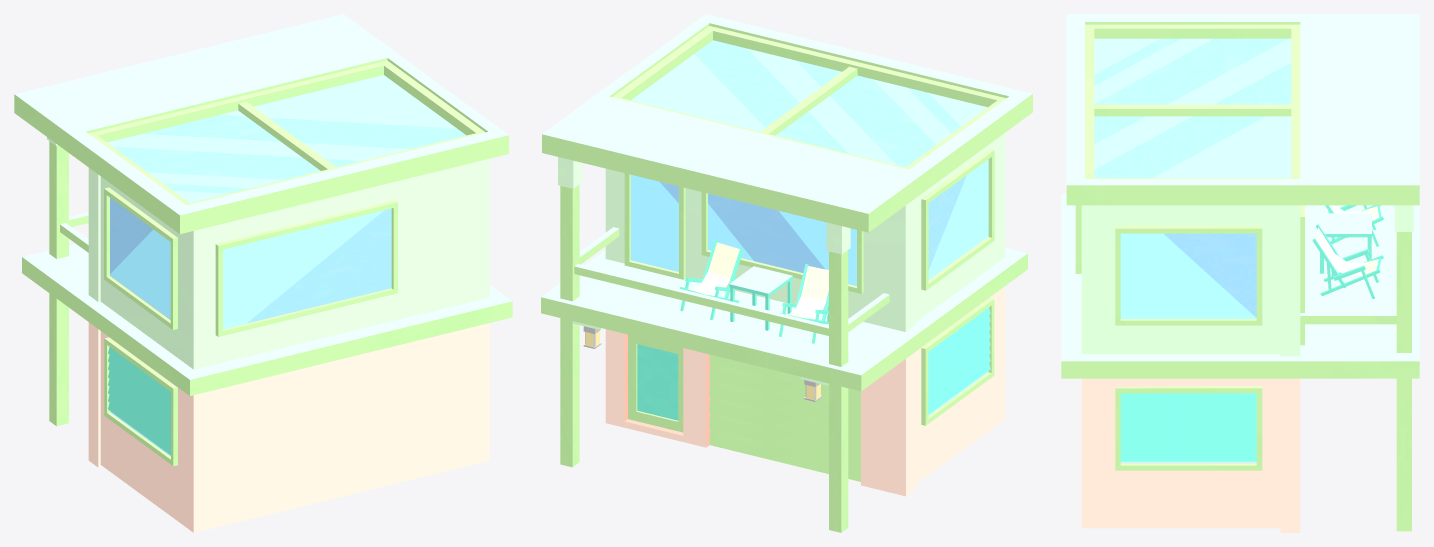
File: dwelling modern.003.glb
The picture shows the model from 3 angles, left to right: view 1: azimuth 30°, elevation 25°; view 2: azimuth 150°, elevation 25°; view 3: azimuth 270°, elevation 25°; orthographic projection. The views are drawn at different scales.
Visible parts, largest first — view 1: dwelling modern.003(Clone); view 2: dwelling modern.003(Clone); view 3: dwelling modern.003(Clone).
Part boxes in pixels (<box>): dwelling modern.003(Clone): <box>14,14,512,532</box>; dwelling modern.003(Clone): <box>541,14,1032,532</box>; dwelling modern.003(Clone): <box>1061,14,1419,532</box>.
Size of the model in its own units: 6.41 by 6.16 by 5.66.
Materials: 1 (1 with a texture image).
